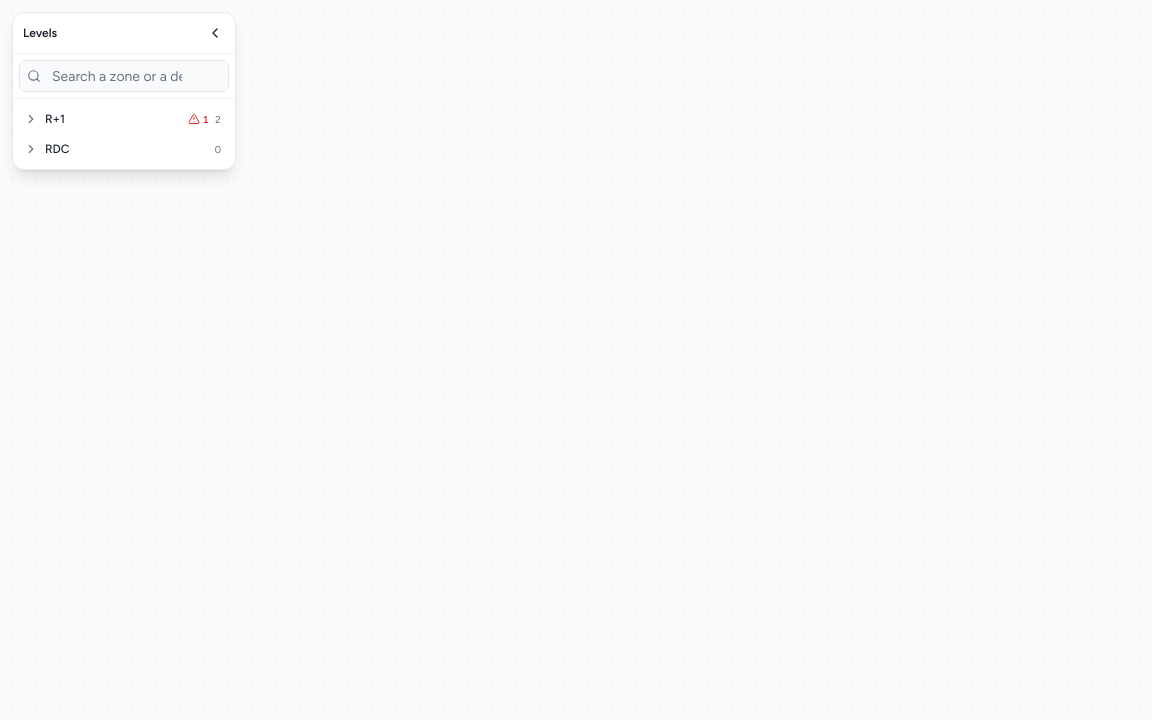
Test case: LevelPanel › unfolds one level at a time
The image size is (1152, 720).
Click the button named "Zones of R+1".
click(31, 119)  # box x1=19 y1=105 x2=43 y2=133
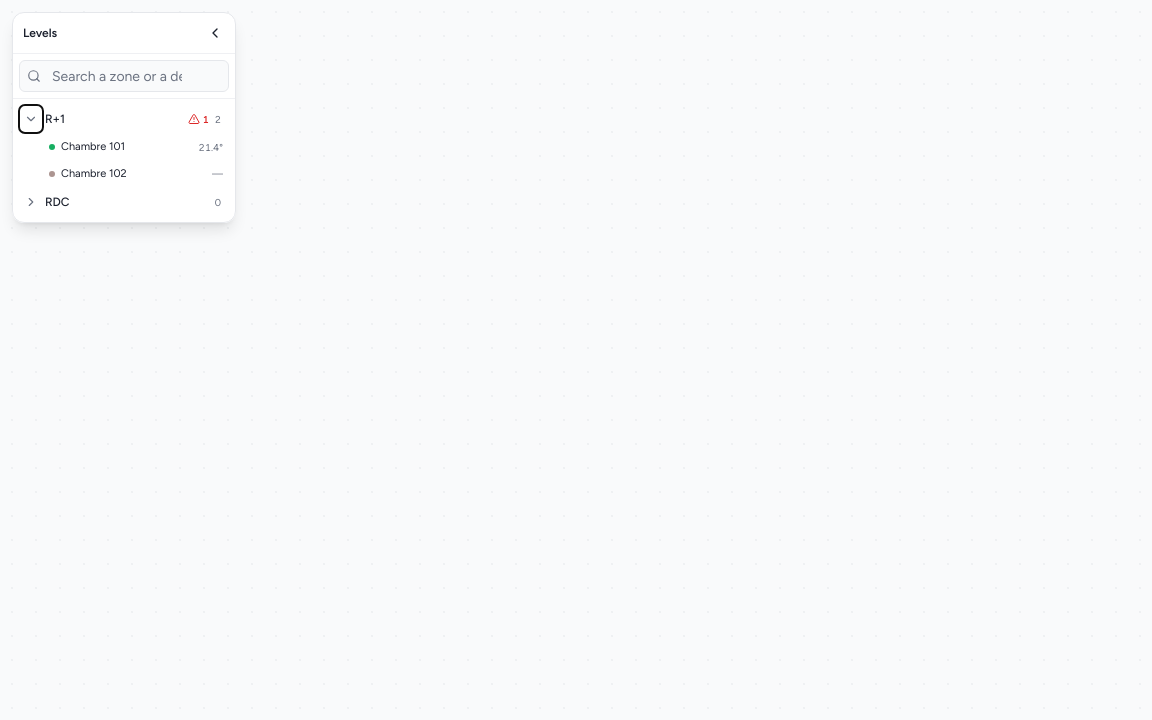
Click the button named "Zones of RDC".
click(31, 202)  # box x1=19 y1=188 x2=43 y2=216
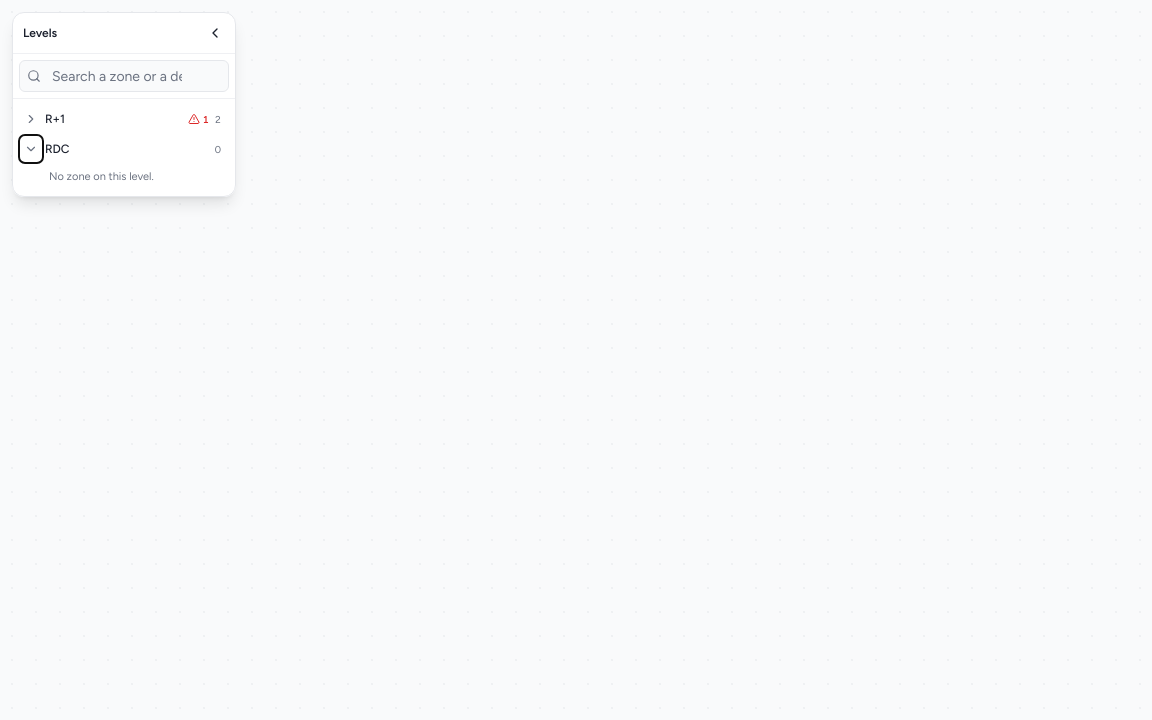
expect the button "Chambre 101" is gone: met
expect the list item "No zone on this level." is shown: met, box x1=49 y1=170 x2=154 y2=183
